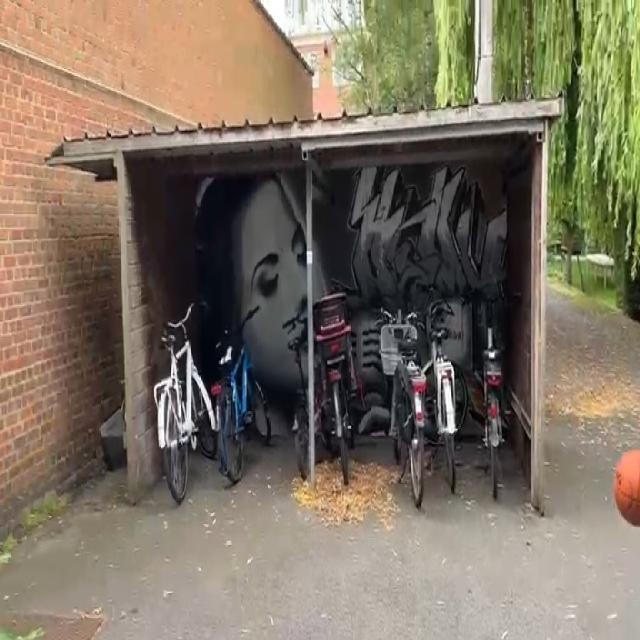Basketball: (614, 448, 640, 526)
